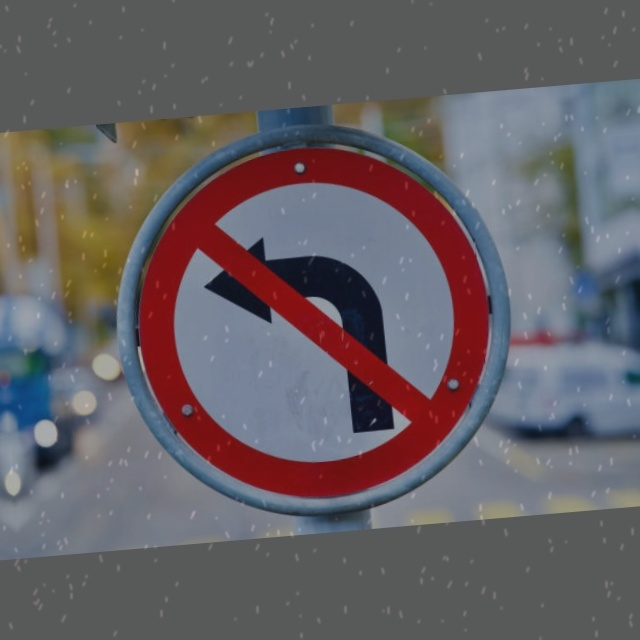Left_Turn_Prohibited: (103, 110, 525, 523)
